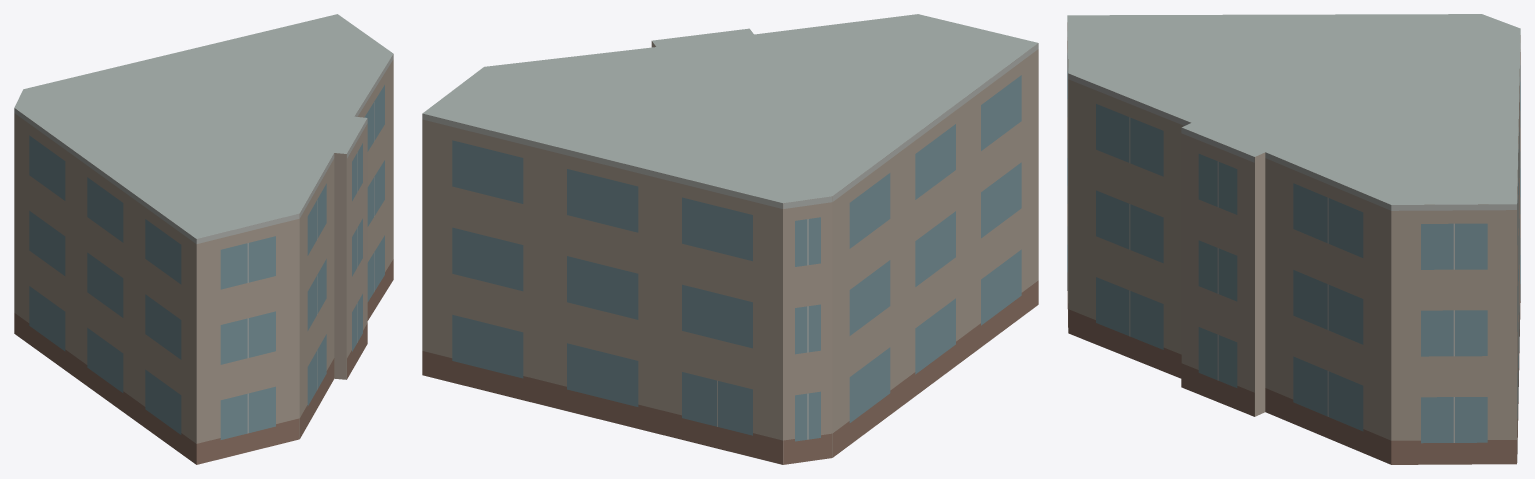
Rendered from survey-upis-32465689.glb.
3 renders of one model, left to right at view 1: azimuth 30°, elevation 25°; view 2: azimuth 150°, elevation 25°; view 3: azimuth 270°, elevation 25°, orthographic. The views are drawn at different scales.
Parts seen in each view (by area): view 1: survey-upis-32465689.tmp; view 2: survey-upis-32465689.tmp; view 3: survey-upis-32465689.tmp.
Boxes of the visible parts, x1,y1,x2,y2 form: survey-upis-32465689.tmp: (14, 14, 393, 464); survey-upis-32465689.tmp: (422, 14, 1038, 464); survey-upis-32465689.tmp: (1067, 14, 1520, 464).
Size of the model in its own units: 17.03 by 10.8 by 17.08.
